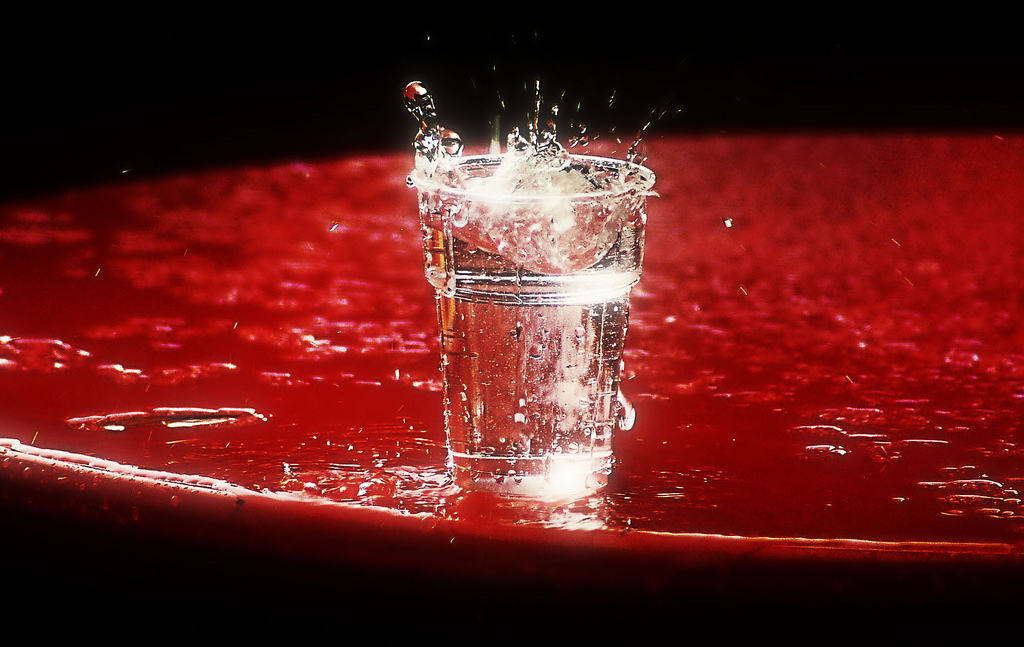glass of water: (399, 79, 650, 510)
